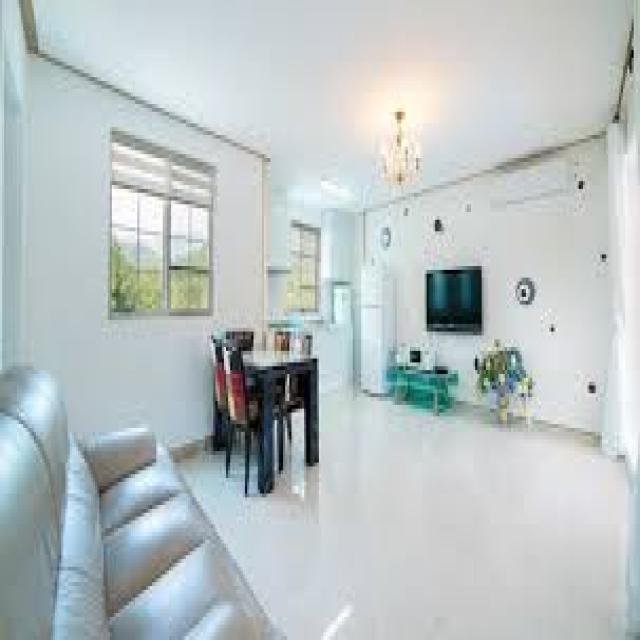Chair: (224, 339, 262, 484)
Sofa: (4, 350, 277, 640)
Table: (206, 328, 328, 495)
tv: (425, 267, 482, 331)
window: (108, 174, 214, 309)
